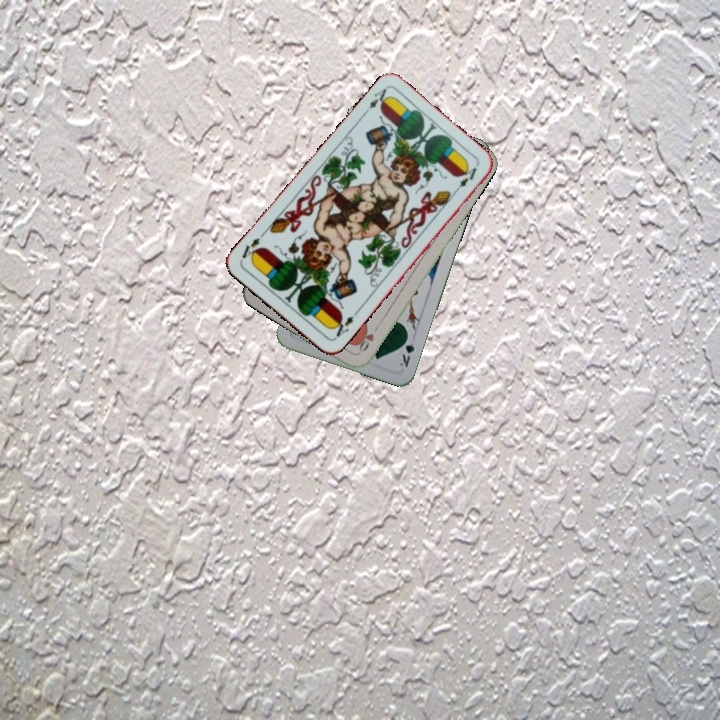EA: (359, 84, 393, 118), (328, 307, 360, 342)
GK: (395, 330, 417, 370)
HO: (354, 321, 381, 356)
